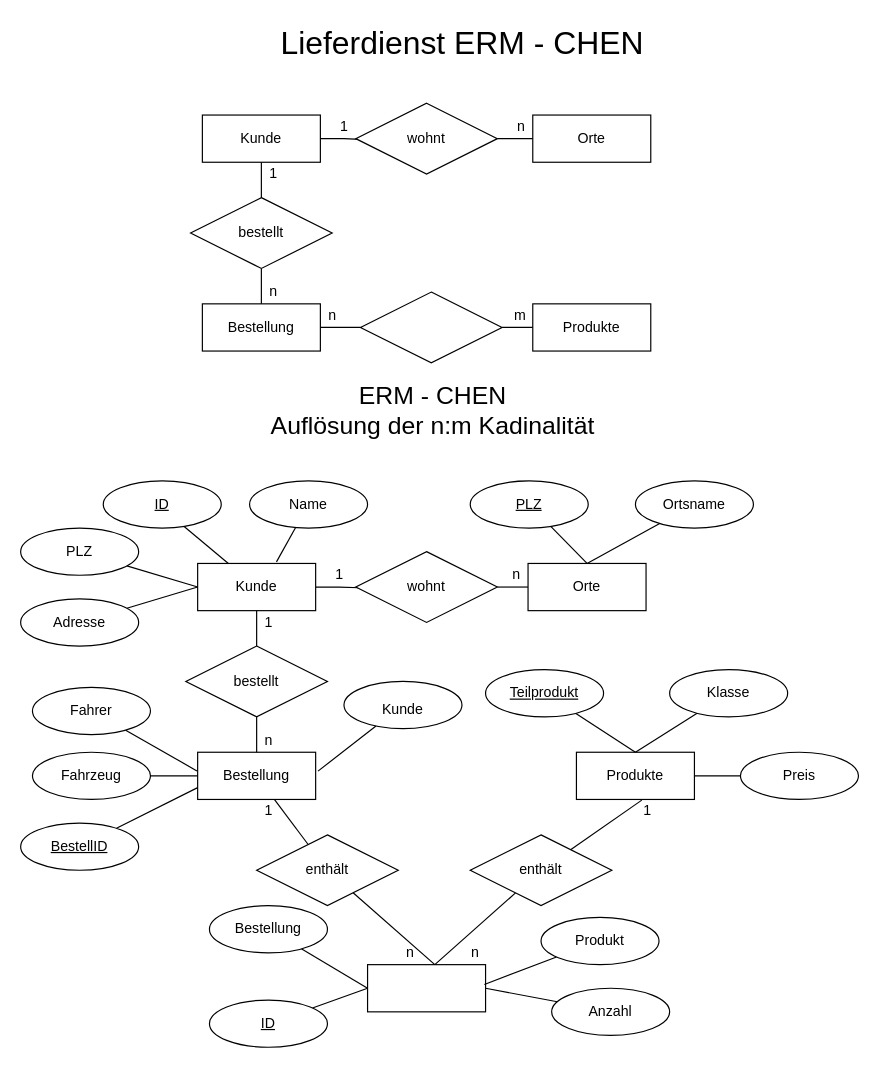
Some shapes in this 879 by 1068 pixel diagram are drawn without their labels. Here are the shapes that lost their labels. From the top down, the centre of each, then its label:
point (430, 327): umfasst
point (426, 987): Teilbestellung
